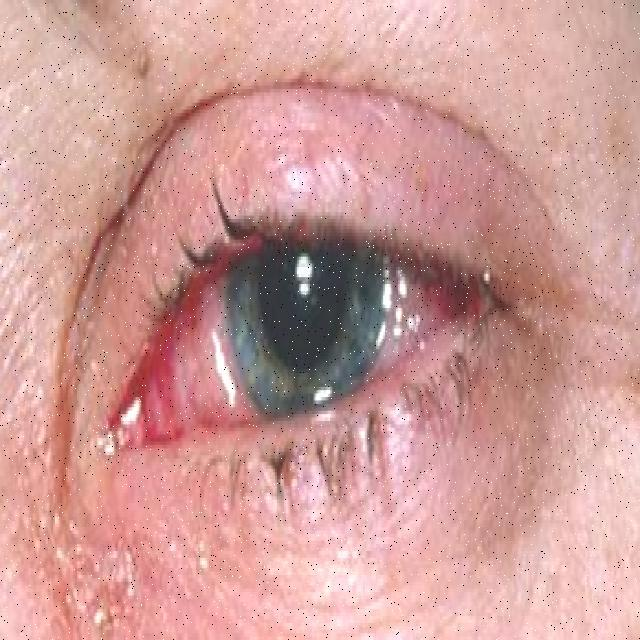Conjunctivitis: (113, 250, 456, 450)
